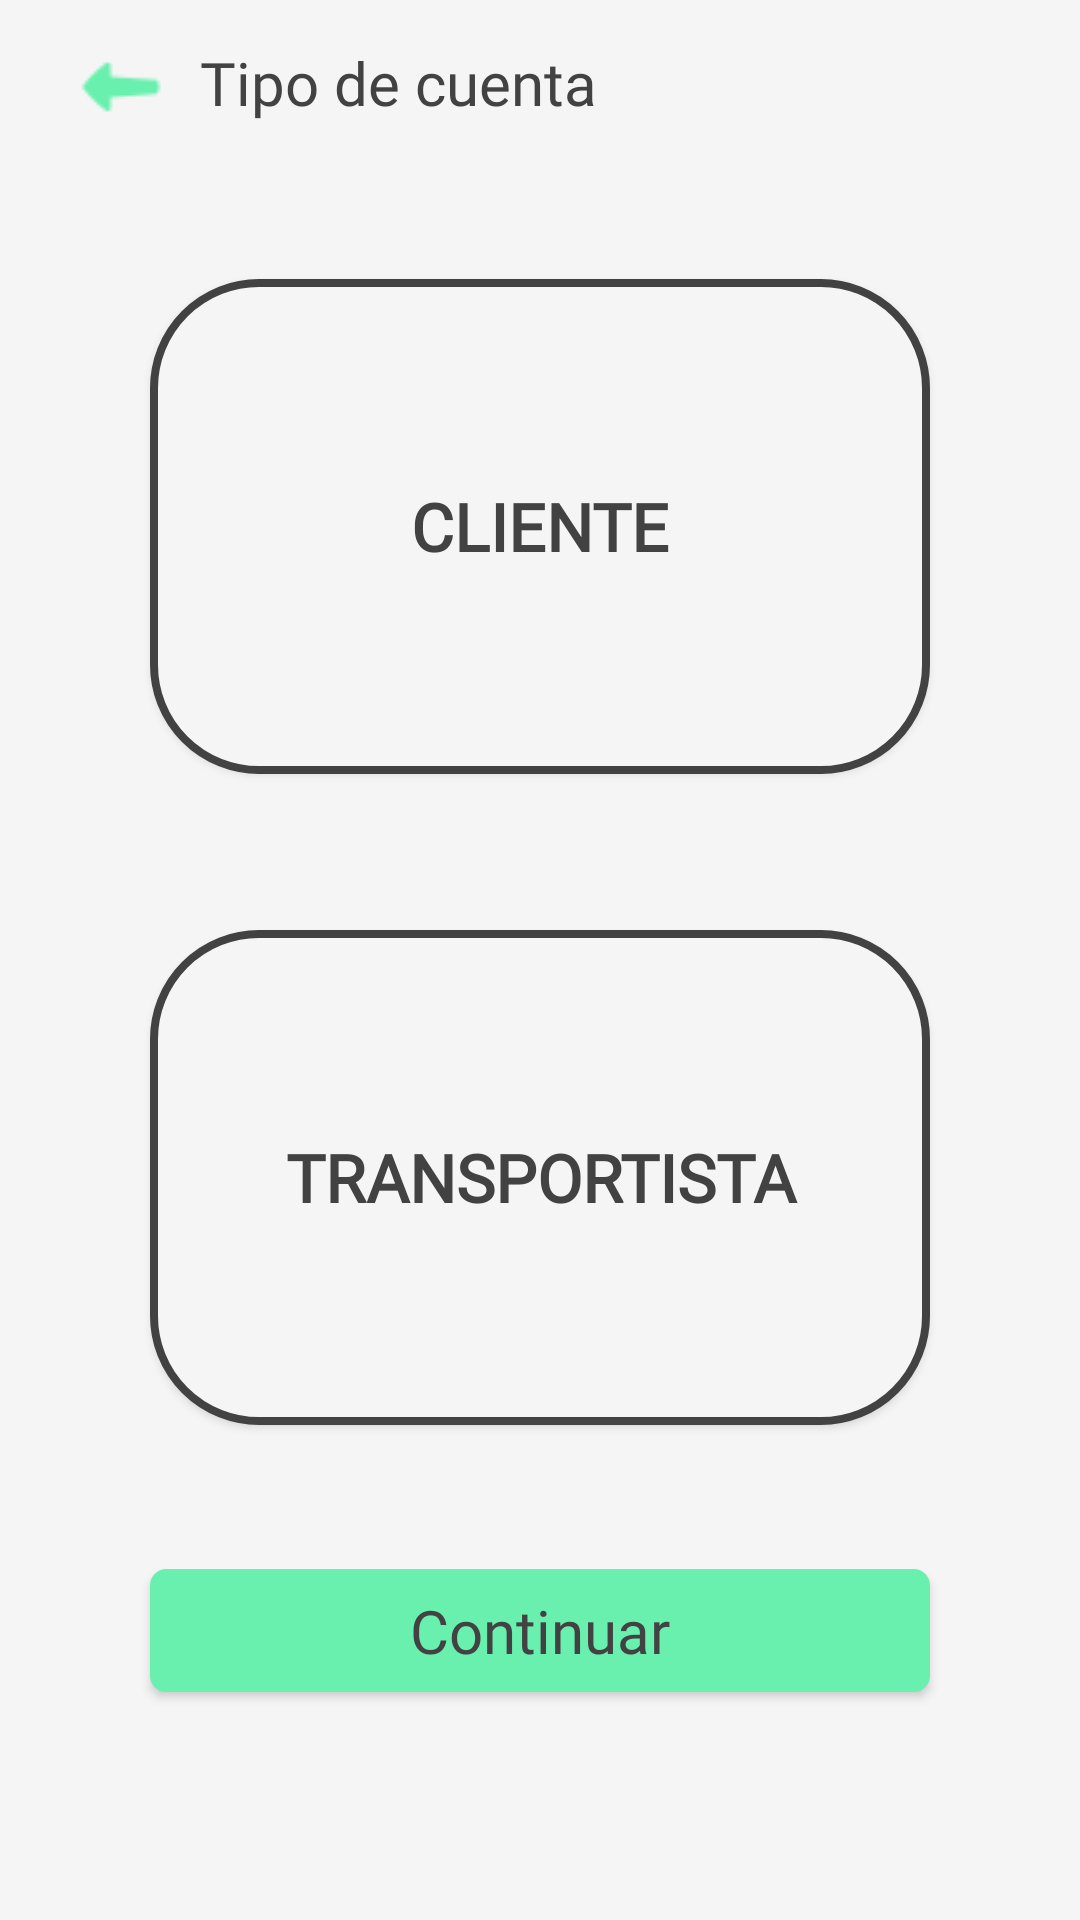

Icon click points for this 1080w x 1920h phone screenshot, format (x=x, y=y):
back: (x=121, y=87)
